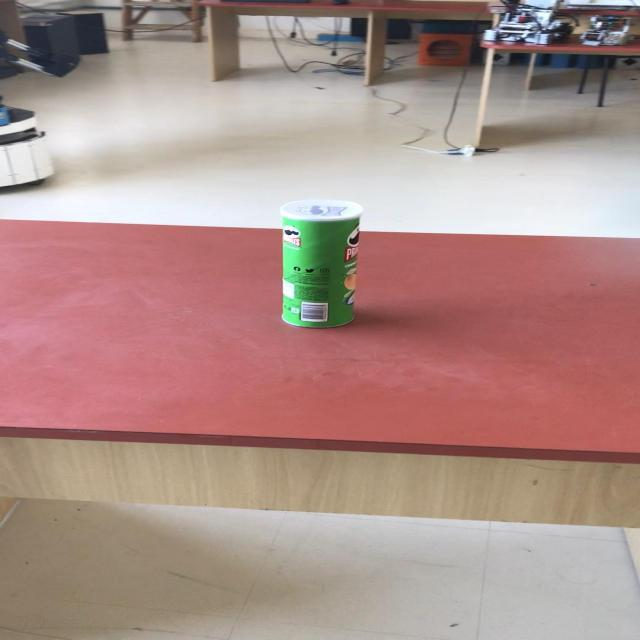a pringles: (277, 198, 363, 328)
